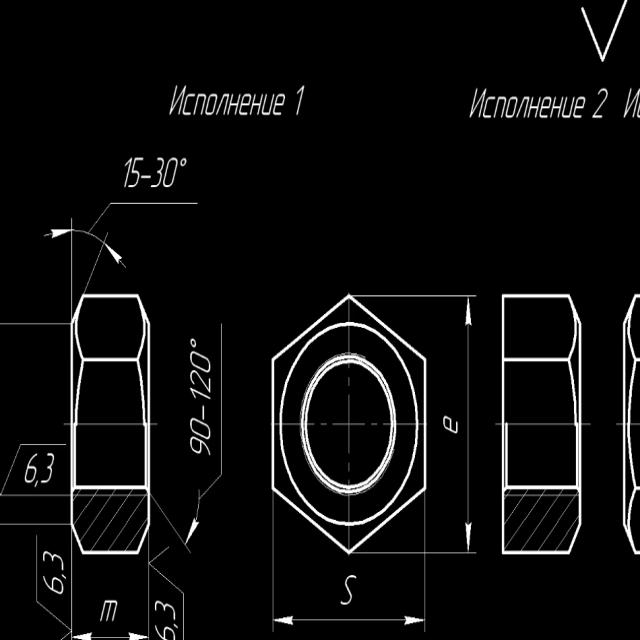marking_line: (151, 322, 228, 555), (37, 198, 199, 294), (427, 294, 479, 557), (269, 556, 428, 638), (33, 556, 189, 639), (37, 221, 130, 293), (2, 427, 69, 505), (151, 543, 196, 640), (30, 533, 69, 640)
numeric: (591, 86, 609, 120), (187, 369, 212, 393), (188, 348, 211, 374), (440, 411, 462, 438), (162, 156, 179, 188), (340, 572, 355, 608), (100, 597, 120, 623), (128, 156, 144, 188), (41, 550, 65, 571), (40, 574, 65, 594), (189, 436, 211, 458), (190, 418, 212, 440), (40, 452, 55, 484), (151, 154, 164, 190), (153, 601, 177, 620), (25, 451, 38, 484), (293, 85, 305, 116), (189, 387, 211, 403), (122, 157, 133, 189), (154, 625, 176, 640)
special_symbol: (578, 0, 632, 62), (189, 337, 198, 349), (140, 175, 152, 182), (180, 156, 187, 167)
